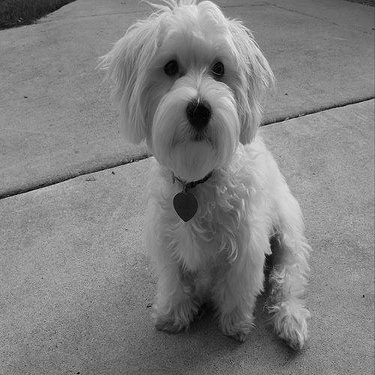dog: (80, 2, 316, 358)
